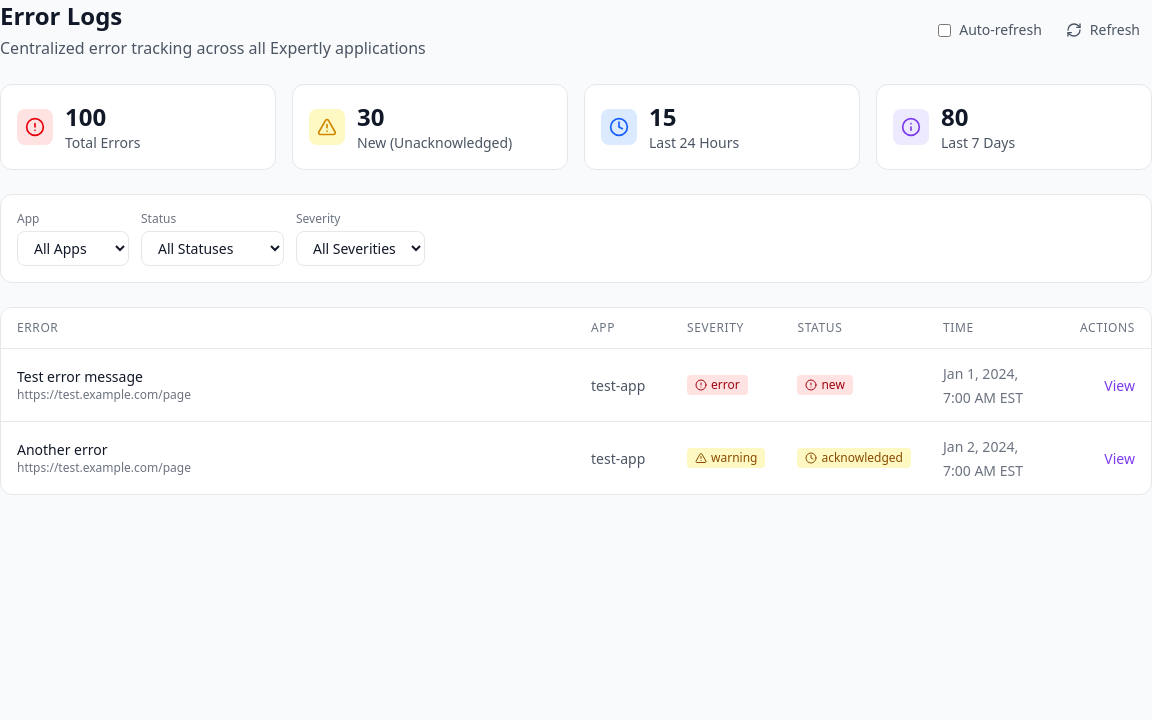
Test: ErrorLogs › opens error detail modal when View button is clicked
Check: the text "Test error message" is shown, box top-left (17, 367), bottom-right (143, 386)
Click the button "View" in the row of "Test error message" at x=1120, y=386, box top-left (1104, 376), bottom-right (1135, 396)
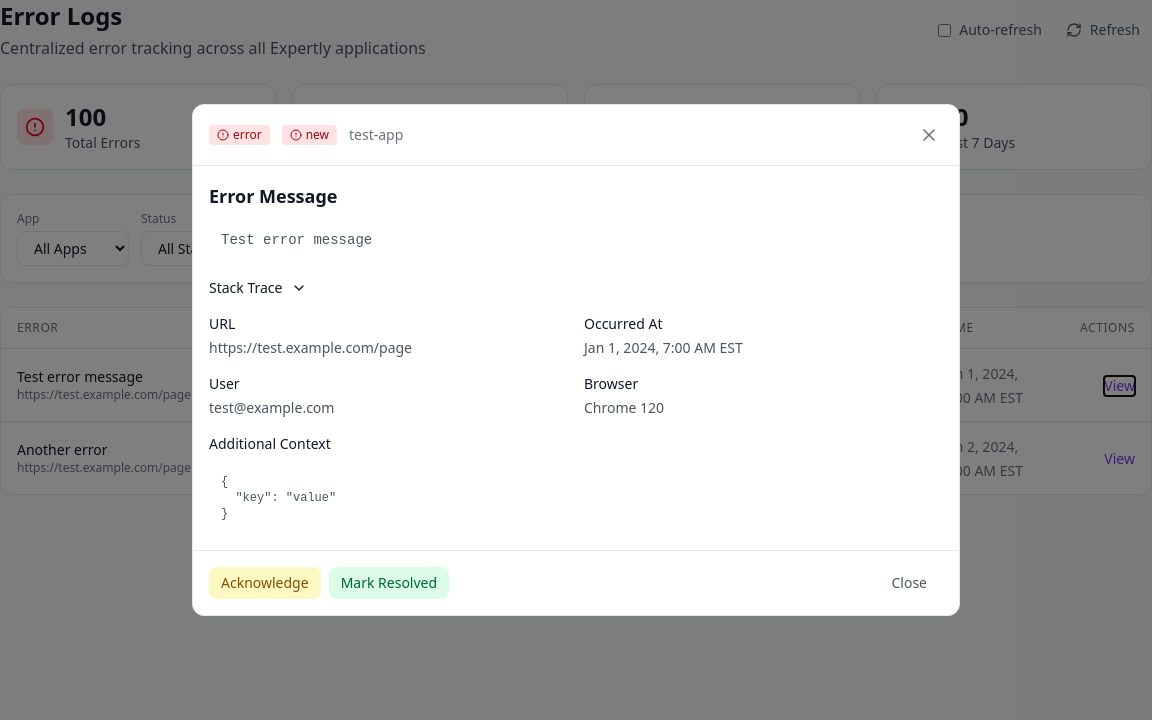
Check: the heading "Error Message" is shown, box top-left (209, 184), bottom-right (338, 208)
